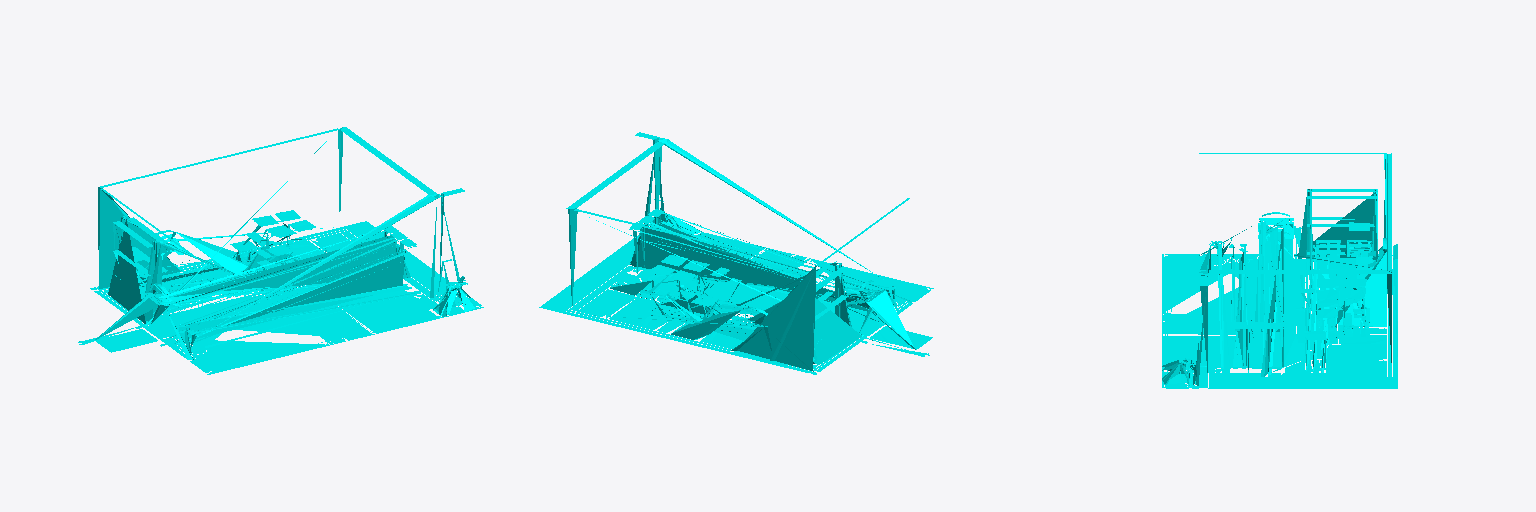
Rendered from testload.obj.
3 views of the same model, side by side, from view 1: azimuth 30°, elevation 25°; view 2: azimuth 150°, elevation 25°; view 3: azimuth 270°, elevation 25° (orthographic).
Size of the model in its own units: 64.1 by 19.1 by 38.68.